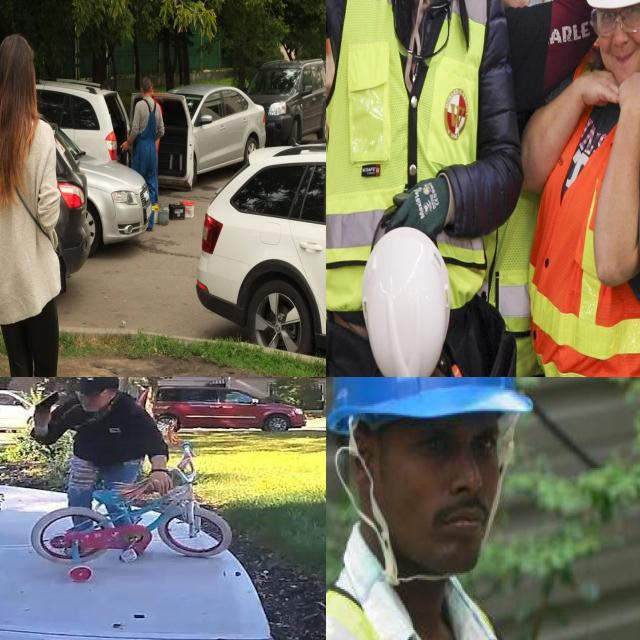No_Ear-Protection: (110, 384, 120, 402)
No_Glasses: (397, 421, 509, 480)
face_nomask: (380, 427, 522, 573), (593, 0, 640, 90), (80, 397, 110, 414)
glasses: (587, 0, 640, 38)
hand_glove: (384, 174, 456, 250)
hand_noglove: (573, 58, 623, 119), (140, 457, 180, 497), (613, 74, 640, 123)
head_helmet: (326, 377, 538, 418)
person: (326, 0, 514, 377), (326, 377, 565, 640), (537, 0, 640, 377), (19, 377, 195, 571)
vest: (333, 0, 481, 310), (534, 28, 640, 377), (326, 571, 543, 640)
